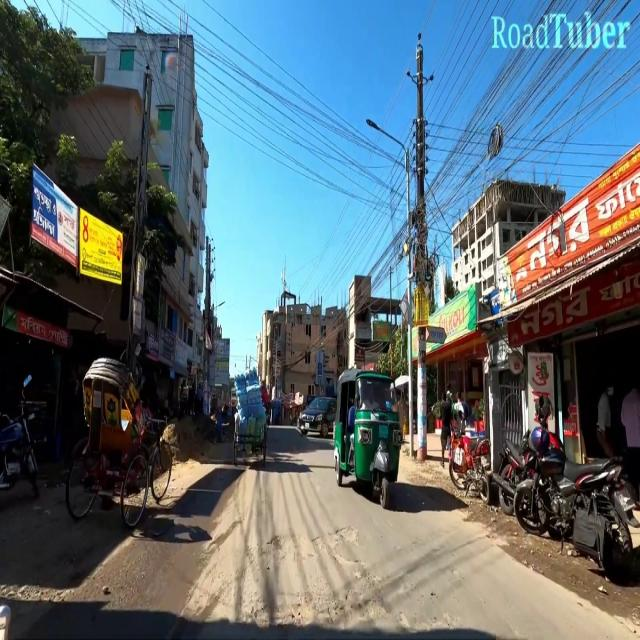black: (295, 390, 334, 438)
